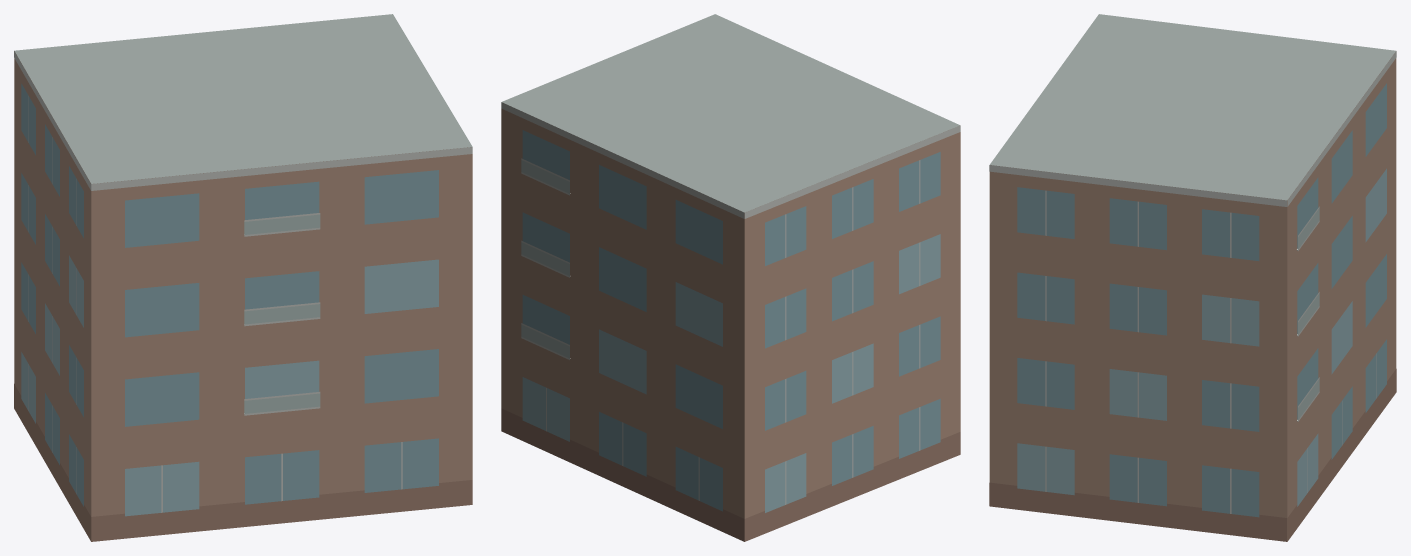
Rendered from survey-upis-32929370.glb.
3 views of the same model, side by side, from view 1: azimuth 30°, elevation 25°; view 2: azimuth 150°, elevation 25°; view 3: azimuth 270°, elevation 25° (orthographic). The views are drawn at different scales.
Visible parts, largest first — view 1: survey-upis-32929370.tmp; view 2: survey-upis-32929370.tmp; view 3: survey-upis-32929370.tmp.
Part boxes in pixels (left/top/right/bottom): survey-upis-32929370.tmp: left=14, top=14, right=472, bottom=541; survey-upis-32929370.tmp: left=501, top=14, right=960, bottom=541; survey-upis-32929370.tmp: left=989, top=14, right=1396, bottom=541.
Bounding box in the file's own units: 14.53 × 12.4 × 13.4.
